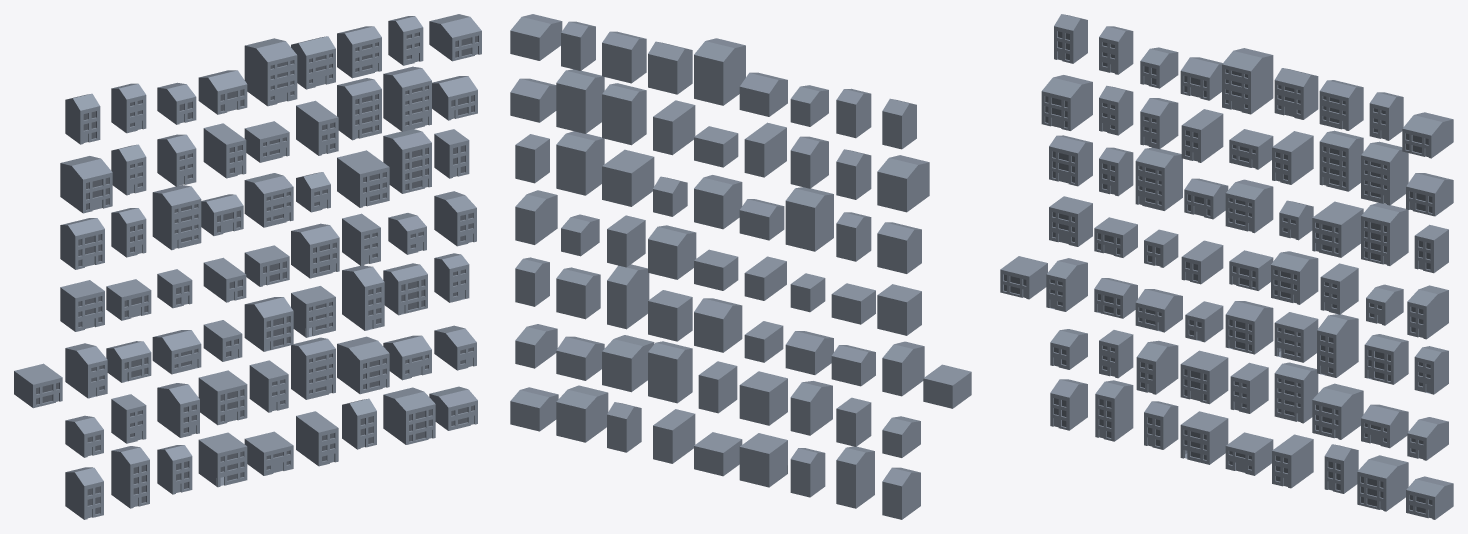
File: Bina.gltf
3 views of the same model, side by side, from view 1: azimuth 30°, elevation 25°; view 2: azimuth 150°, elevation 25°; view 3: azimuth 330°, elevation 25° (orthographic). The views are drawn at different scales.
Visible parts, largest first — view 1: Building_049.006, Building_037.006, Building_071.006, Building_072.006, Building_068.006, Building_067.006, Building_061.006, Building_065.006, Building_076.006, Building_022.006, Building_064.006, Building_051.006 (+52 smaller); view 2: Building_049.006, Building_037.006, Building_072.006, Building_071.006, Building_022.006, Building_076.006, Building_061.006, Building_064.006, Building_065.006, Building_067.006, Building_068.006, Building_053.006 (+52 smaller); view 3: Building_049.006, Building_037.006, Building_071.006, Building_072.006, Building_068.006, Building_022.006, Building_067.006, Building_076.006, Building_061.006, Building_064.006, Building_065.006, Building_051.006 (+52 smaller).
Part boxes in pixels (bbox=[...]): Building_049.006: bbox=[244, 38, 297, 106]; Building_037.006: bbox=[152, 185, 201, 250]; Building_071.006: bbox=[383, 66, 431, 131]; Building_072.006: bbox=[383, 129, 431, 193]; Building_068.006: bbox=[337, 336, 389, 394]; Building_067.006: bbox=[342, 265, 384, 330]; Building_061.006: bbox=[291, 337, 335, 399]; Building_065.006: bbox=[337, 150, 389, 207]; Building_076.006: bbox=[383, 387, 435, 444]; Building_022.006: bbox=[60, 156, 112, 213]; Building_064.006: bbox=[337, 78, 381, 140]; Building_051.006: bbox=[244, 173, 293, 227]; Building_049.006: bbox=[694, 38, 745, 105]; Building_037.006: bbox=[785, 187, 833, 251]; Building_072.006: bbox=[556, 131, 604, 195]; Building_071.006: bbox=[556, 69, 604, 133]; Building_022.006: bbox=[877, 155, 929, 212]; Building_076.006: bbox=[556, 385, 608, 442]; Building_061.006: bbox=[648, 341, 692, 403]; Building_064.006: bbox=[602, 83, 646, 145]; Building_065.006: bbox=[602, 149, 654, 206]; Building_067.006: bbox=[607, 264, 649, 329]; Building_068.006: bbox=[602, 335, 654, 392]; Building_053.006: bbox=[694, 298, 742, 352]; Building_049.006: bbox=[1222, 48, 1273, 114]; Building_037.006: bbox=[1135, 147, 1182, 210]; Building_071.006: bbox=[1361, 141, 1408, 205]; Building_072.006: bbox=[1361, 202, 1408, 265]; Building_068.006: bbox=[1312, 383, 1363, 439]; Building_022.006: bbox=[1041, 75, 1092, 130]; Building_067.006: bbox=[1317, 314, 1358, 377]; Building_076.006: bbox=[1357, 455, 1408, 511]; Building_061.006: bbox=[1274, 362, 1318, 423]; Building_064.006: bbox=[1319, 130, 1363, 191]; Building_065.006: bbox=[1312, 201, 1363, 257]; Building_051.006: bbox=[1225, 179, 1273, 233].
Bounding box in the file's own units: 0.7337 × 0.6652 × 0.0652.
